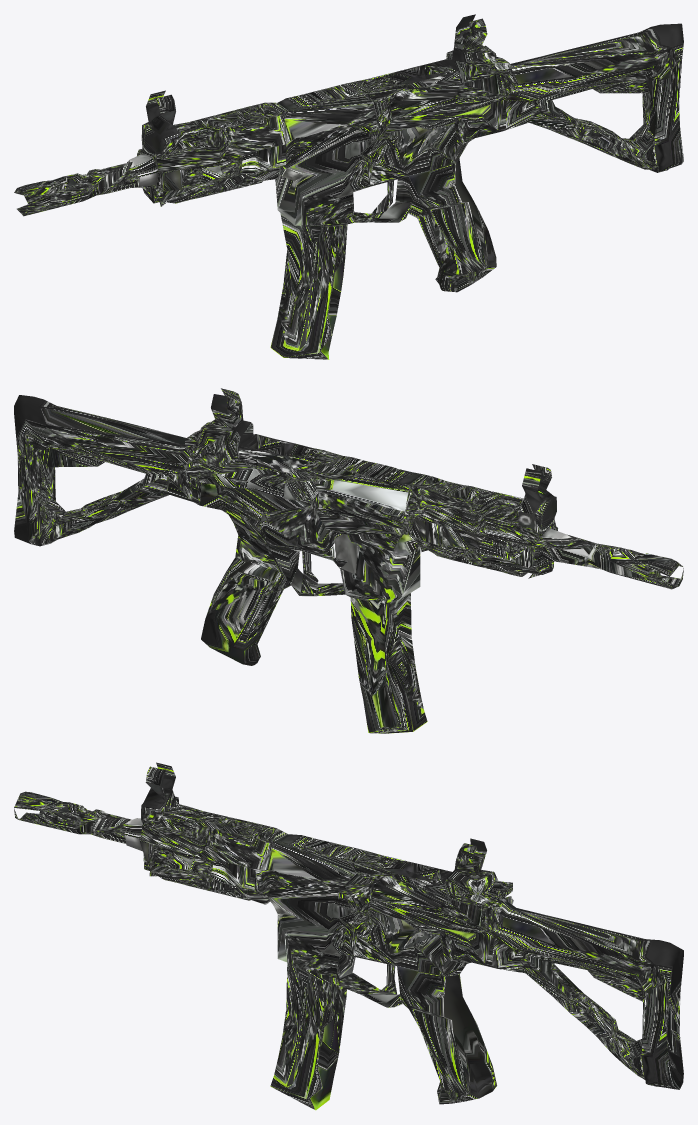
The model's file is gun_smg_lo.glb.
3 renders of one model, top to bottom at view 1: azimuth 30°, elevation 25°; view 2: azimuth 150°, elevation 25°; view 3: azimuth 330°, elevation 25°, orthographic.
Visible parts, largest first — view 1: Mesh_0; view 2: Mesh_0; view 3: Mesh_0.
Boxes of the visible parts, left/top/right/bottom form: Mesh_0: left=14, top=14, right=683, bottom=359; Mesh_0: left=14, top=388, right=683, bottom=733; Mesh_0: left=14, top=762, right=683, bottom=1110.
Size of the model in its own units: 1.9 by 0.8247 by 0.1931.
Materials: 1 (1 with a texture image).
